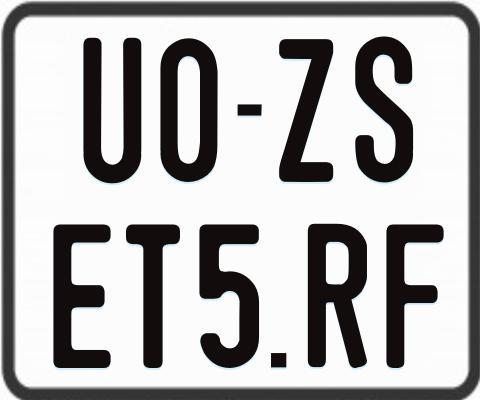0: (159, 35, 218, 183)
5: (196, 222, 260, 367)
E: (50, 223, 111, 370)
F: (386, 224, 447, 373)
R: (308, 223, 372, 370)
S: (355, 37, 417, 188)
T: (126, 222, 181, 365)
U: (83, 38, 145, 189)
Z: (276, 38, 335, 187)
